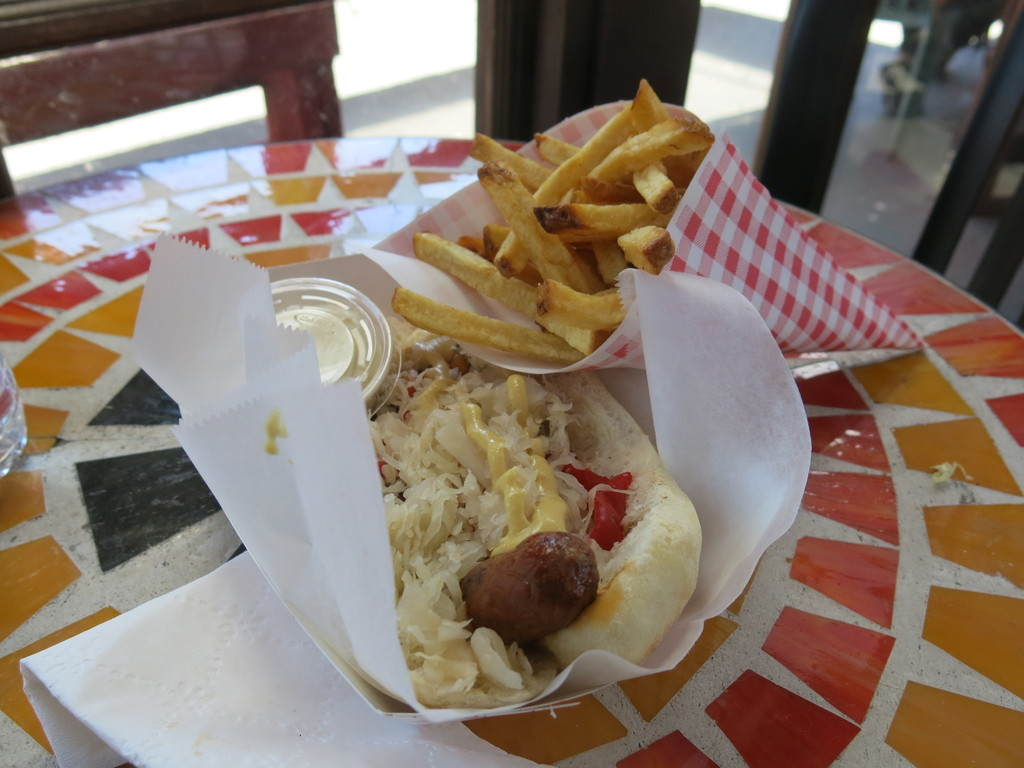French fries: (392, 113, 690, 353)
